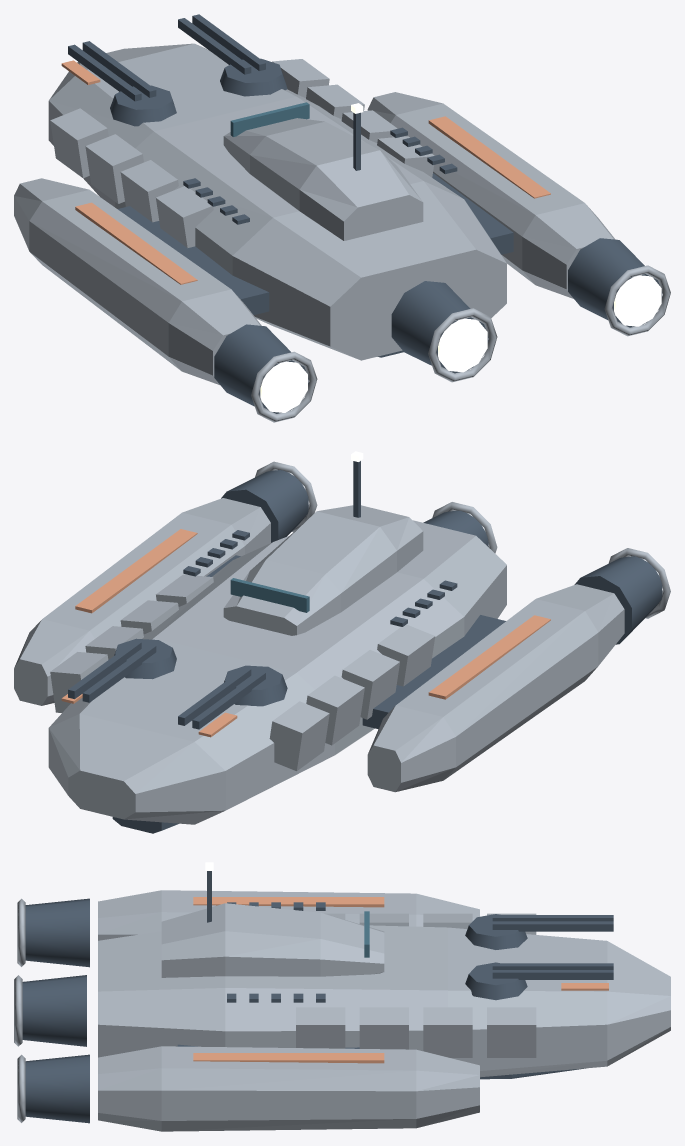
File: cruiser.glb
3 renders of one model, top to bottom at view 1: azimuth 30°, elevation 25°; view 2: azimuth 150°, elevation 25°; view 3: azimuth 270°, elevation 25°, orthographic. The views are drawn at different scales.
Visible parts, largest first — view 1: cruiser; view 2: cruiser; view 3: cruiser.
Part boxes in pixels (x1,y1,x2,y2): cruiser: (14,14,670,422); cruiser: (14,451,670,833); cruiser: (14,862,670,1131).
Size of the model in its own units: 18.03 by 9 by 26.38.
